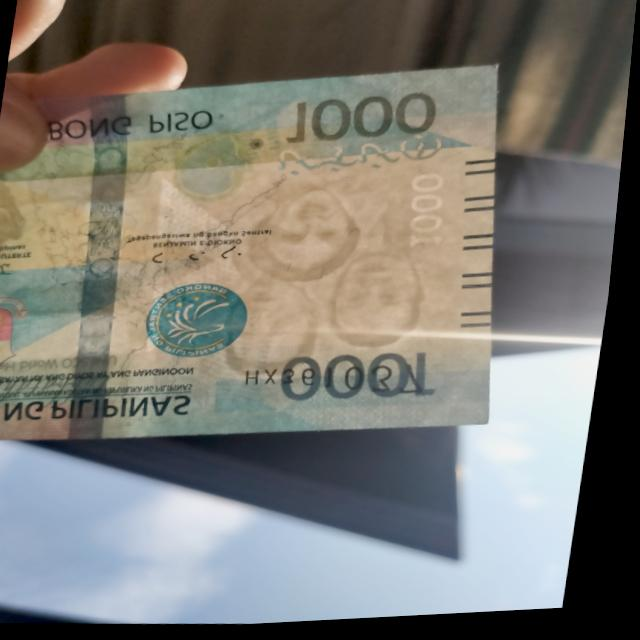security_thread: (74, 94, 133, 444)
see_through_mark: (266, 124, 448, 192)
serial_number: (240, 359, 436, 407)
value_watermark: (400, 175, 458, 261)
watermark: (218, 163, 445, 384)
